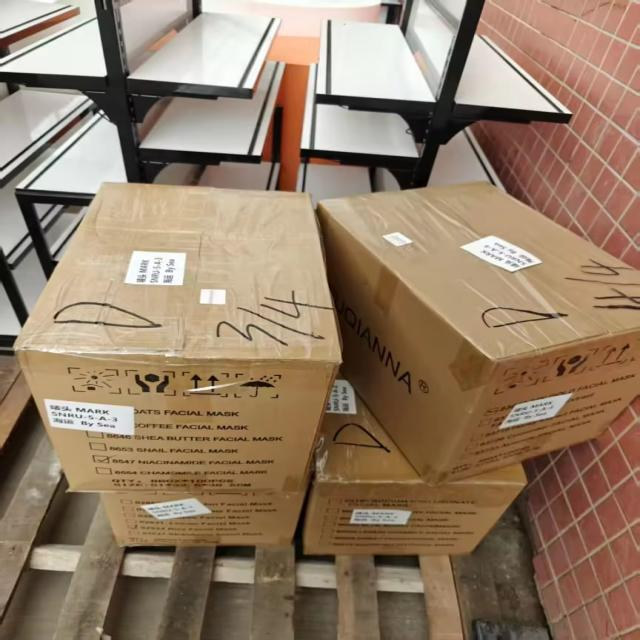carton_box: (18, 172, 344, 500), (320, 172, 640, 483), (302, 398, 535, 565), (89, 473, 306, 557)
export_mark_label: (457, 222, 552, 276), (41, 390, 140, 439), (123, 231, 197, 294), (341, 496, 423, 534), (132, 496, 217, 525), (502, 403, 574, 428)
handle_with_care_label: (124, 357, 179, 409), (556, 344, 592, 382)
keep_dry_label: (231, 367, 289, 406)
protect_from_heat_label: (62, 363, 122, 400), (498, 358, 553, 394)
this_side_up_label: (180, 364, 233, 404), (602, 336, 638, 370)
